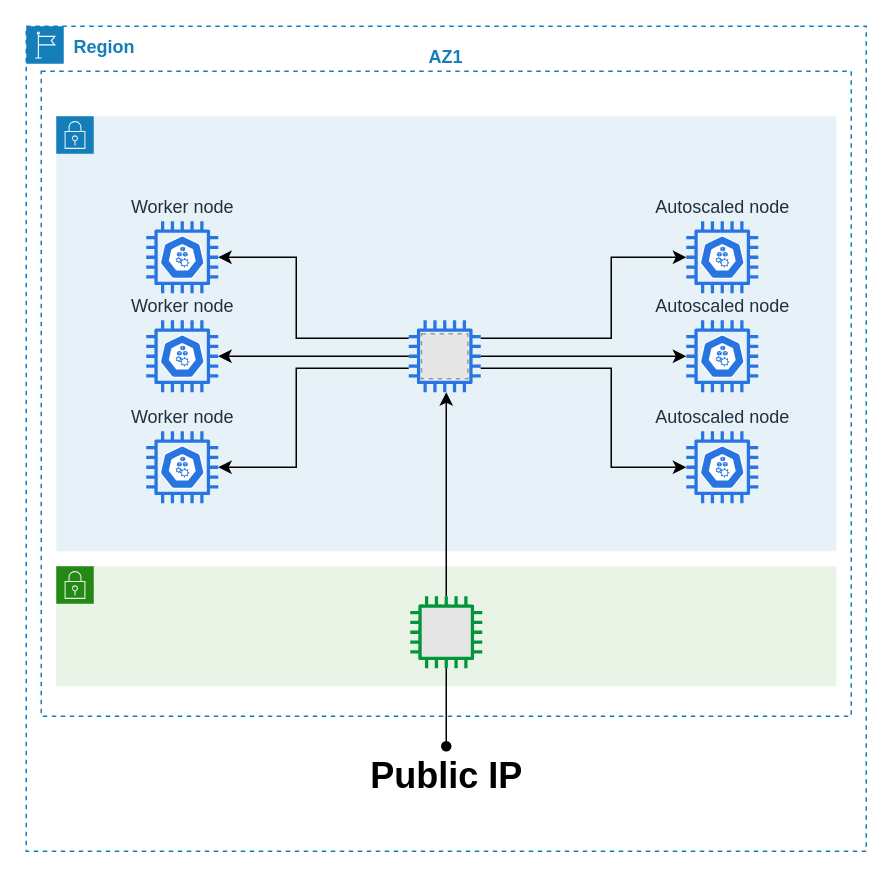
This 893x878 diagram has some shape labels left out. Grey dashed boxes stand in for pictures. Each missing label, with the box of its shape:
Control plane: (408, 320, 480, 392)
Private subnet: (55, 115, 836, 551)
Public subnet: (55, 565, 836, 686)
